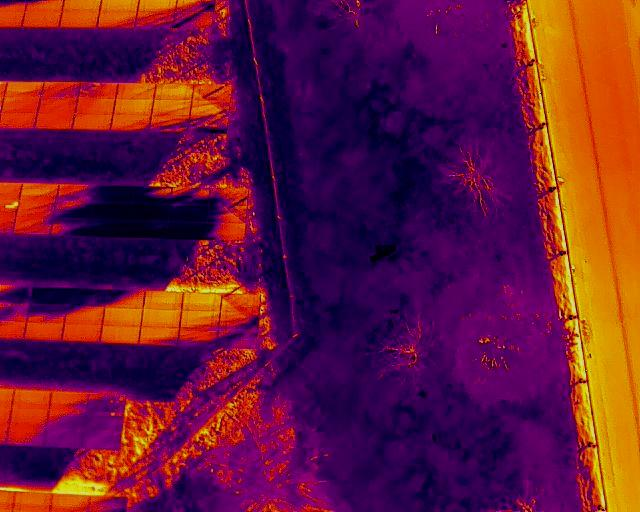No-Anomaly: (12, 493, 52, 512), (103, 308, 142, 327), (101, 325, 140, 344), (59, 8, 99, 26), (10, 407, 47, 426), (144, 292, 183, 310), (24, 321, 63, 339), (142, 309, 181, 327), (21, 9, 60, 27), (63, 325, 101, 343), (11, 391, 50, 408), (183, 294, 221, 311), (180, 311, 219, 327), (50, 495, 88, 511), (34, 114, 74, 129), (72, 113, 111, 128), (76, 98, 115, 113), (38, 97, 76, 112), (1, 96, 39, 111), (0, 112, 36, 127), (114, 99, 152, 113)
Shadowing: (168, 203, 209, 225), (89, 218, 130, 239), (208, 187, 249, 207), (205, 222, 245, 242), (129, 219, 169, 239), (168, 221, 208, 241), (94, 183, 136, 202), (44, 427, 83, 447), (92, 200, 131, 220), (131, 186, 172, 205), (65, 307, 105, 326), (66, 288, 106, 307), (27, 304, 67, 323), (130, 204, 170, 223), (208, 204, 246, 224), (140, 327, 179, 346), (105, 289, 144, 308), (86, 394, 125, 413), (46, 409, 85, 428), (7, 425, 44, 445), (82, 429, 120, 448), (217, 329, 257, 347), (56, 183, 96, 201), (20, 183, 57, 202), (28, 286, 67, 304), (135, 10, 174, 28), (96, 10, 135, 28), (50, 392, 88, 410), (179, 328, 217, 346), (40, 81, 80, 98), (173, 10, 213, 27), (53, 201, 93, 218), (52, 218, 89, 236), (220, 312, 259, 329), (84, 413, 122, 430), (221, 295, 259, 312), (193, 84, 230, 101), (190, 99, 229, 115), (14, 216, 53, 232), (155, 83, 193, 99), (4, 81, 42, 97), (79, 82, 117, 98), (190, 116, 228, 132), (117, 82, 154, 98), (152, 100, 190, 115), (112, 114, 150, 129), (90, 496, 126, 511), (151, 115, 189, 129), (19, 201, 53, 216)
